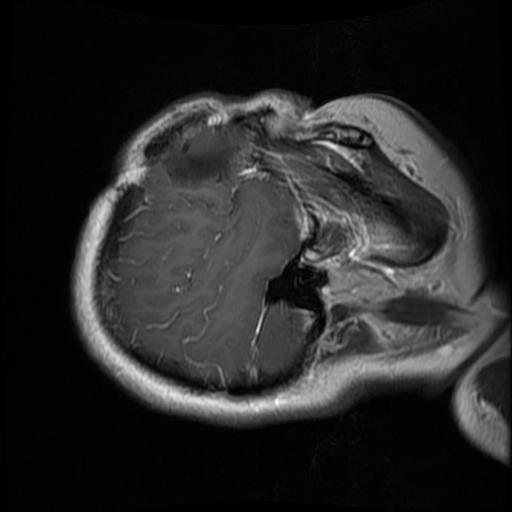glioma: (163, 143, 241, 190)
